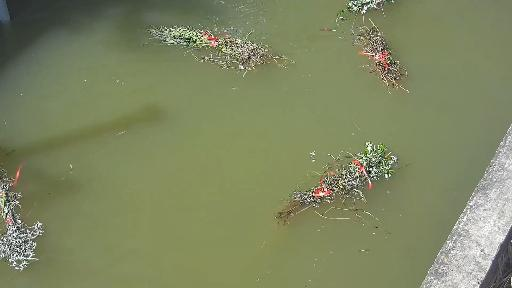twig: (262, 137, 400, 229), (146, 22, 300, 79), (342, 23, 428, 98), (0, 150, 40, 272), (348, 0, 398, 16)
